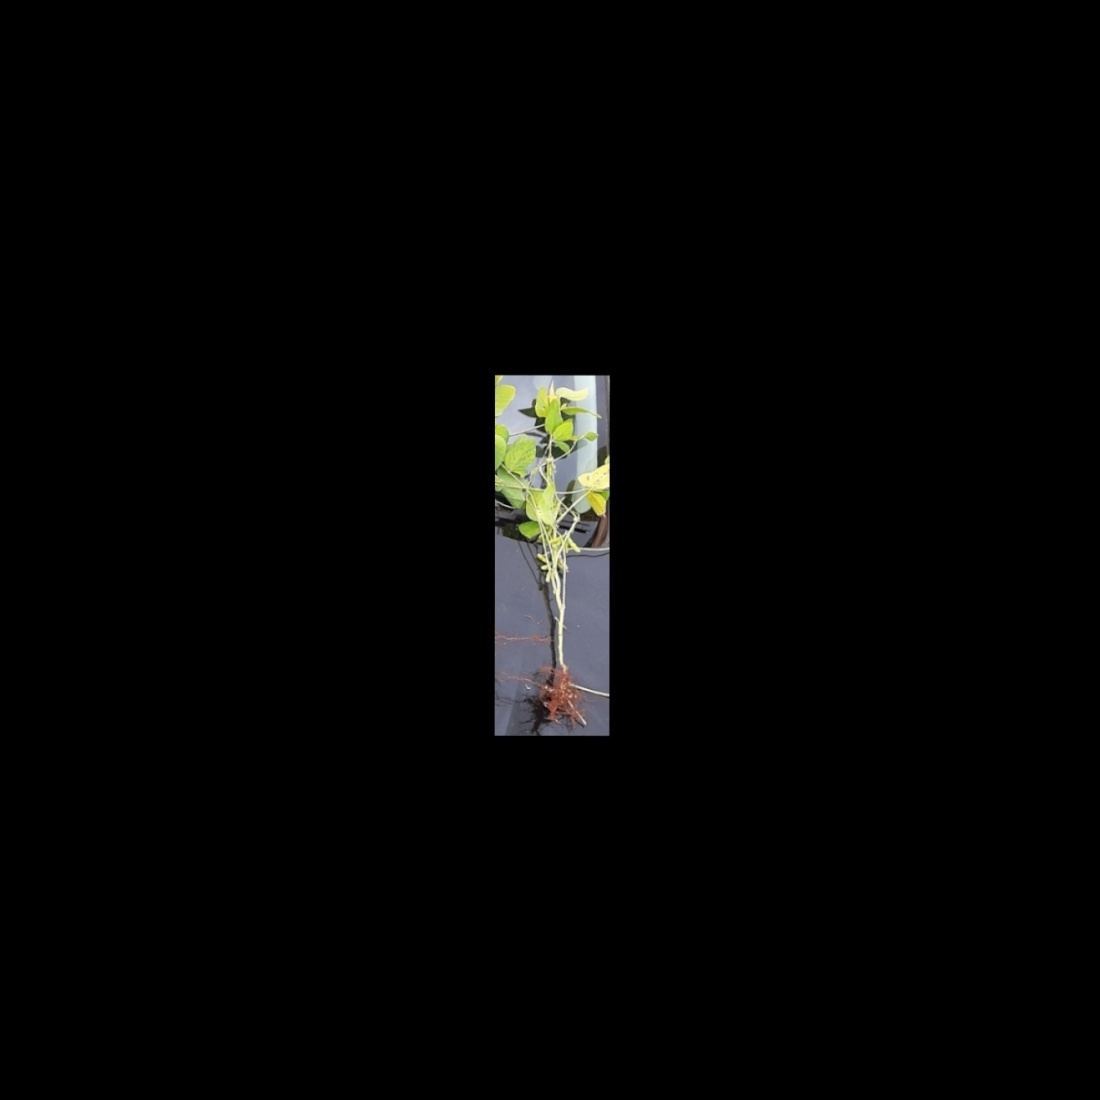pod: (565, 534, 583, 555), (534, 551, 547, 565), (543, 569, 552, 585)
soy: (502, 387, 606, 723)
